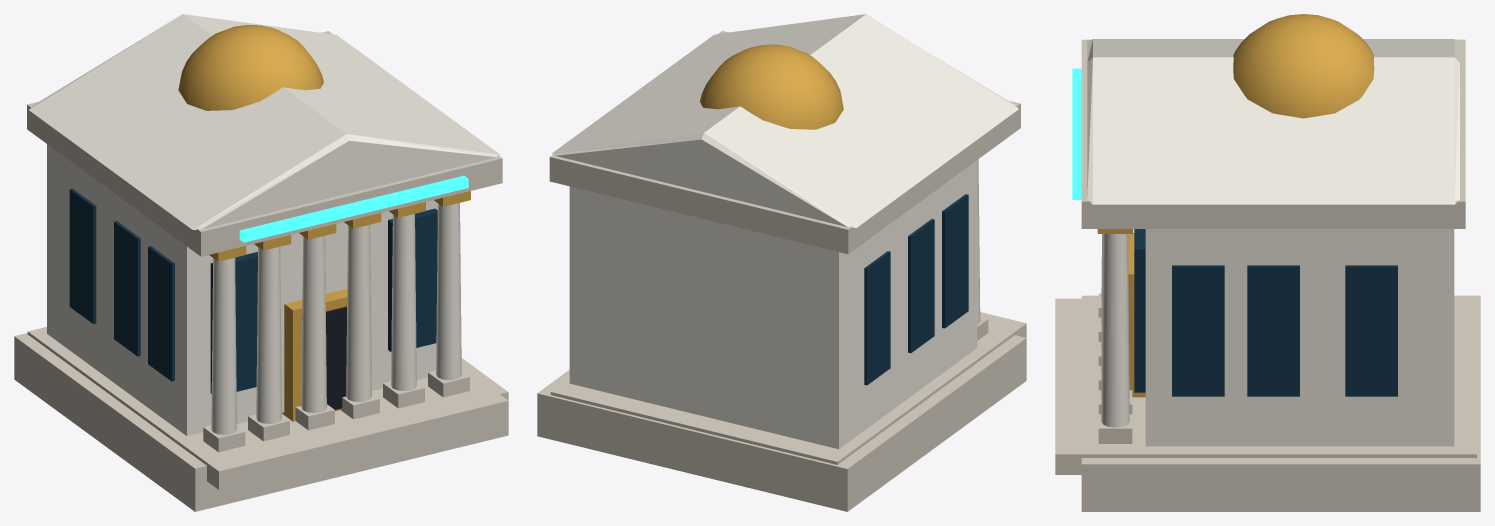
Rendered from building_bank.glb.
3 views of the same model, side by side, from view 1: azimuth 30°, elevation 25°; view 2: azimuth 150°, elevation 25°; view 3: azimuth 270°, elevation 25° (orthographic). The views are drawn at different scales.
Visible parts, largest first — view 1: building_bank; view 2: building_bank; view 3: building_bank.
Part boxes in pixels (x1,y1,x2,y2): building_bank: [14, 14, 508, 511]; building_bank: [537, 14, 1026, 511]; building_bank: [1055, 14, 1480, 511].
Bounding box in the file's own units: 1.06 × 1.19 × 1.13.
